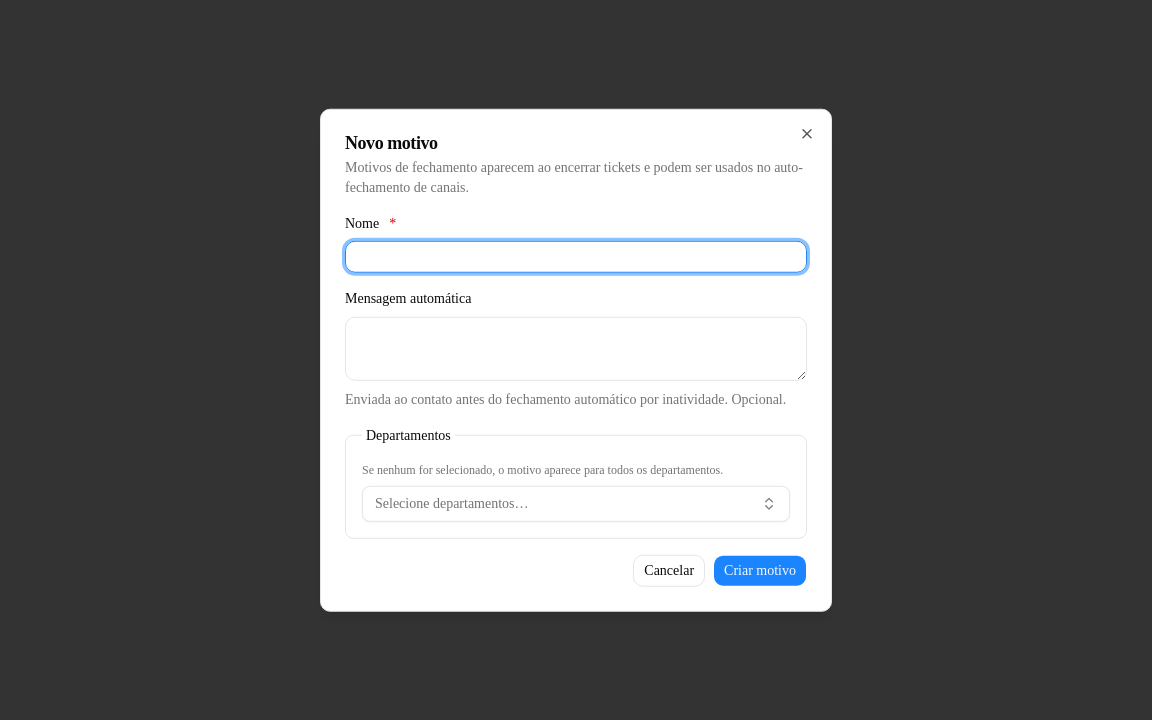
Test case: CloseReasonDialog › Zod: name vazio bloqueia submit e exibe erro
Click the button "Criar motivo" at (760, 570), box [713,554,807,586]
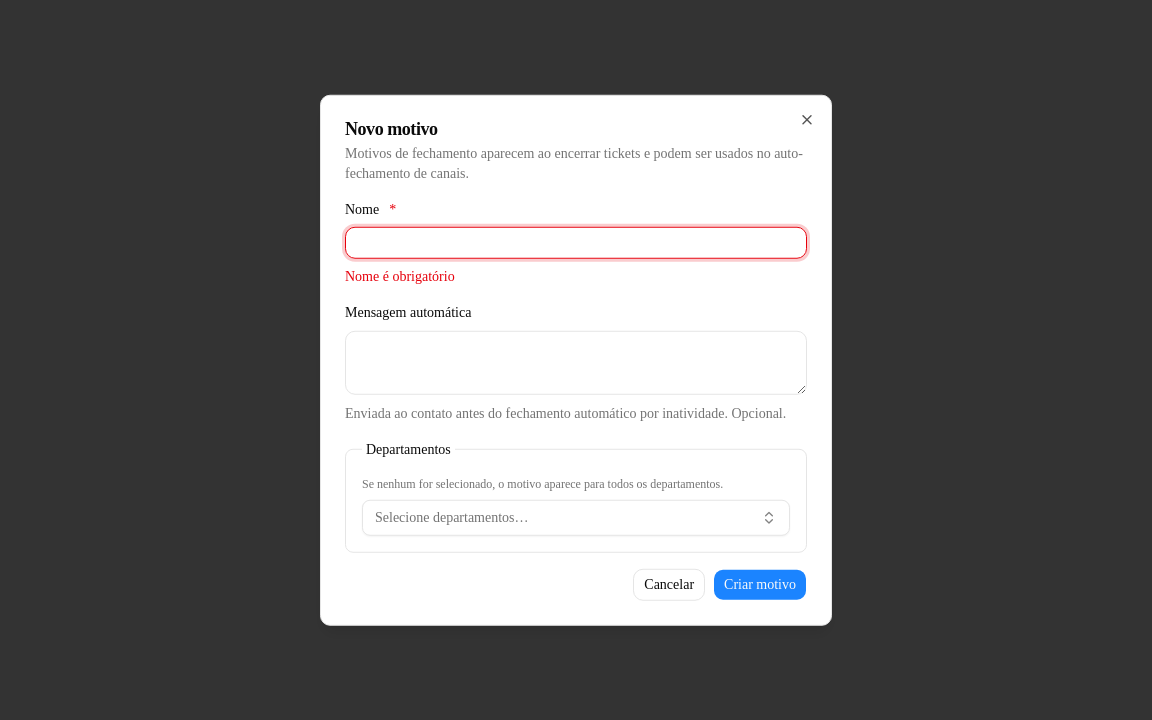
Check: the text "Nome é obrigatório" is shown, box [345,269,455,284]
